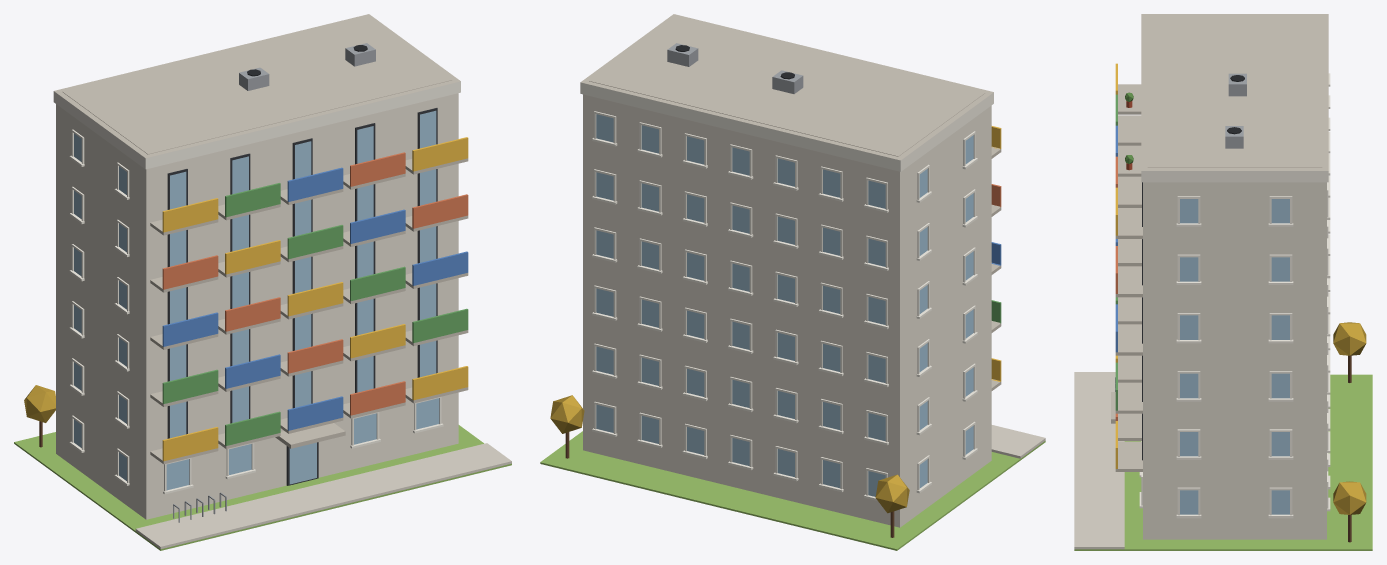
Rendered from Konut_balkonlu_blok_3_Hafif.fbx.
3 renders of one model, left to right at view 1: azimuth 30°, elevation 25°; view 2: azimuth 150°, elevation 25°; view 3: azimuth 270°, elevation 25°, orthographic.
Visible parts, largest first — view 1: Konut_balkonlu_blok_3_Hafif; view 2: Konut_balkonlu_blok_3_Hafif; view 3: Konut_balkonlu_blok_3_Hafif.
Boxes of the visible parts, box(x1,y1,x2,y2) form: Konut_balkonlu_blok_3_Hafif: box(14, 14, 511, 550); Konut_balkonlu_blok_3_Hafif: box(540, 14, 1045, 550); Konut_balkonlu_blok_3_Hafif: box(1074, 14, 1372, 550).
Size of the model in its own units: 18 by 18.48 by 13.
